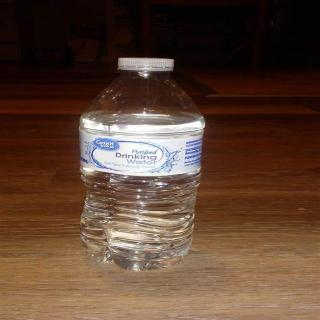Anorganik: (79, 52, 210, 273)
